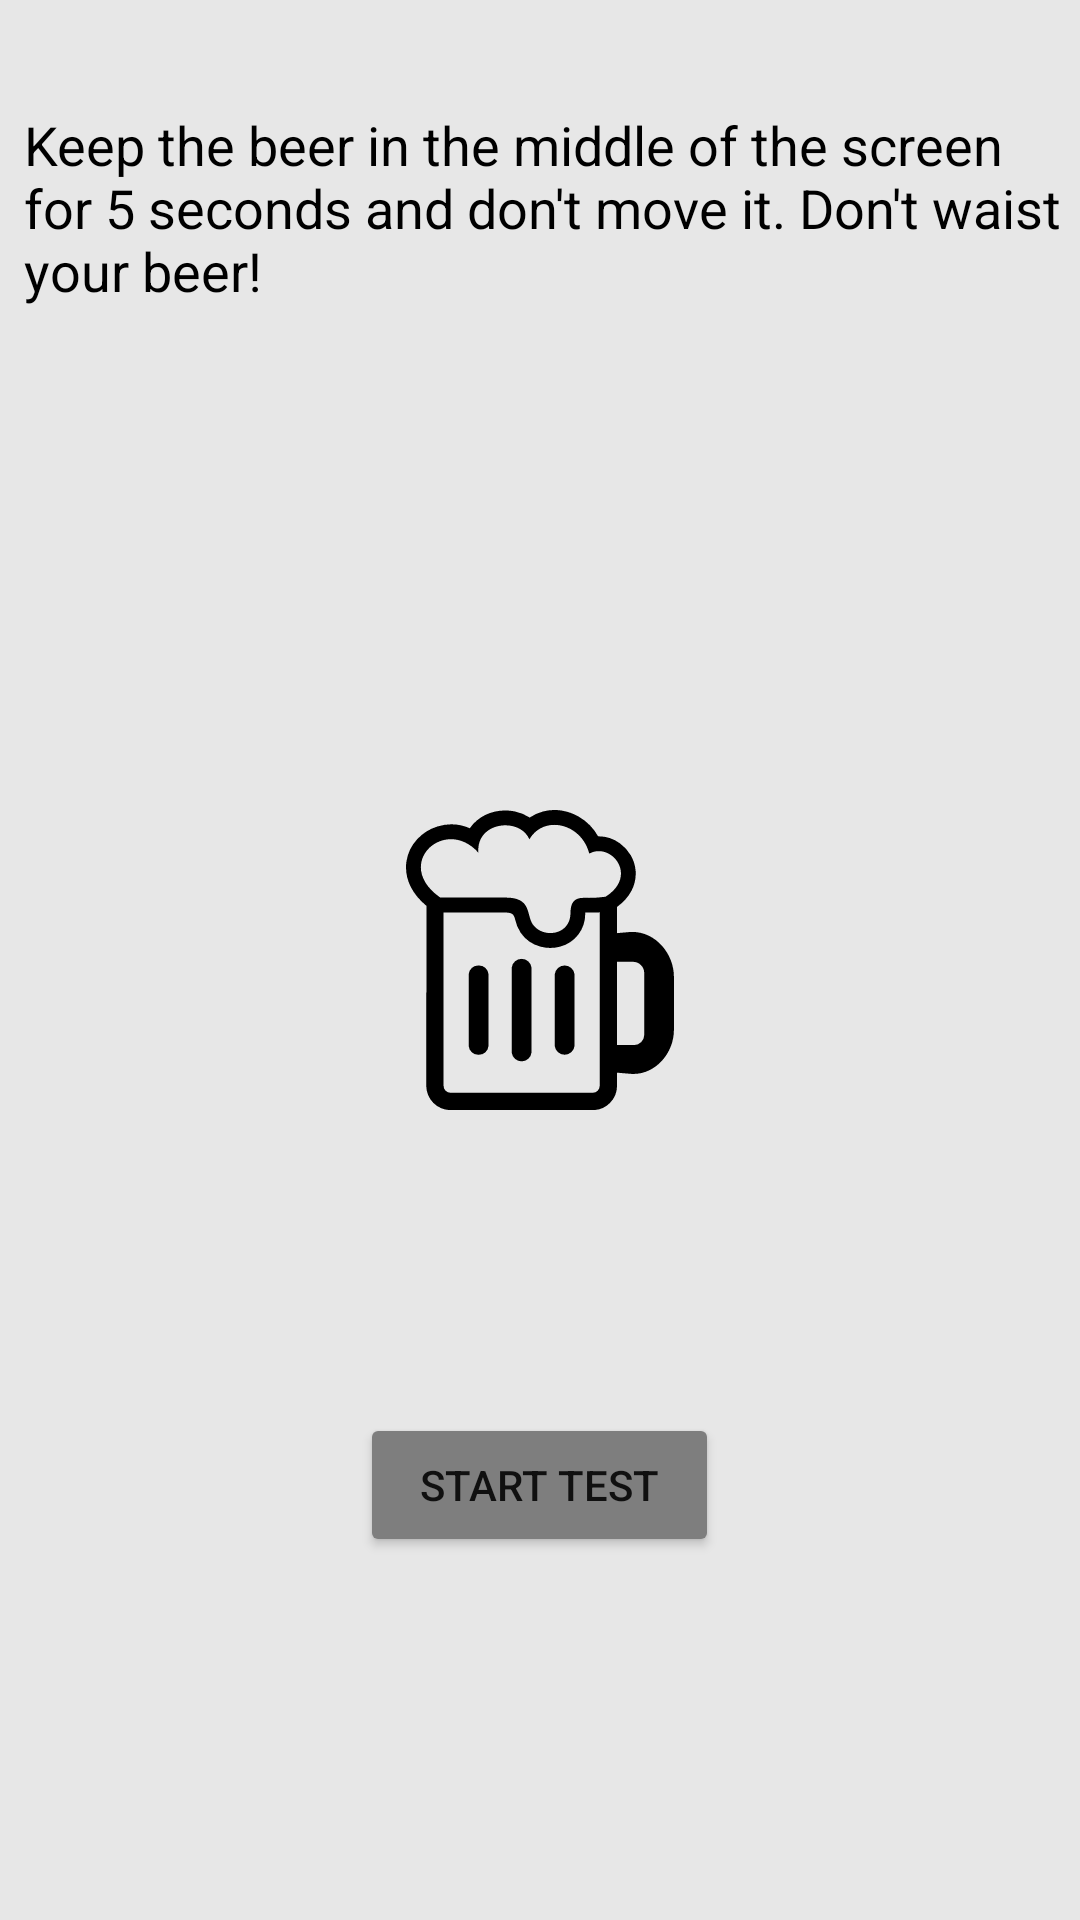

Named icons in this screenshot (1080 x 1920) and their bounding boxes, [left=x1, top=y1, right=x2, bottom=y2]:
beer mug: [left=406, top=810, right=674, bottom=1110]
